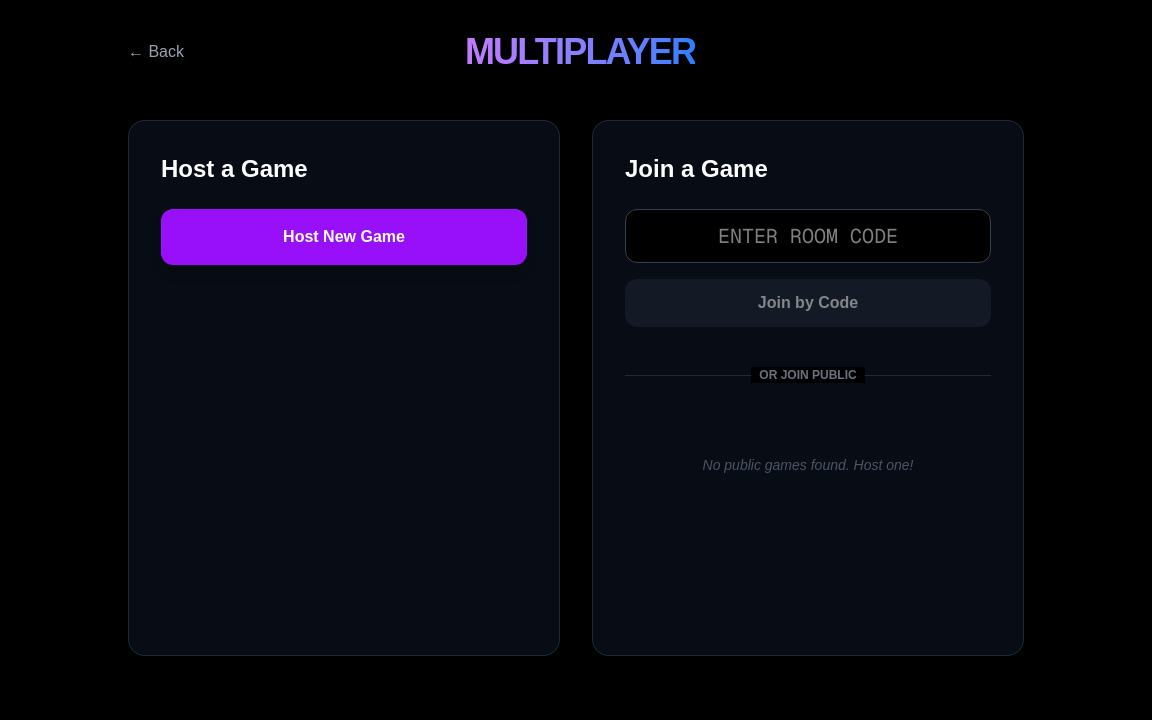
Test: Multiplayer Selection Page › generates a room code when clicking Host New Game
The width and height of the screenshot is (1152, 720).
Click the button "Host New Game" at (344, 237), box top-left (161, 209), bottom-right (527, 265)
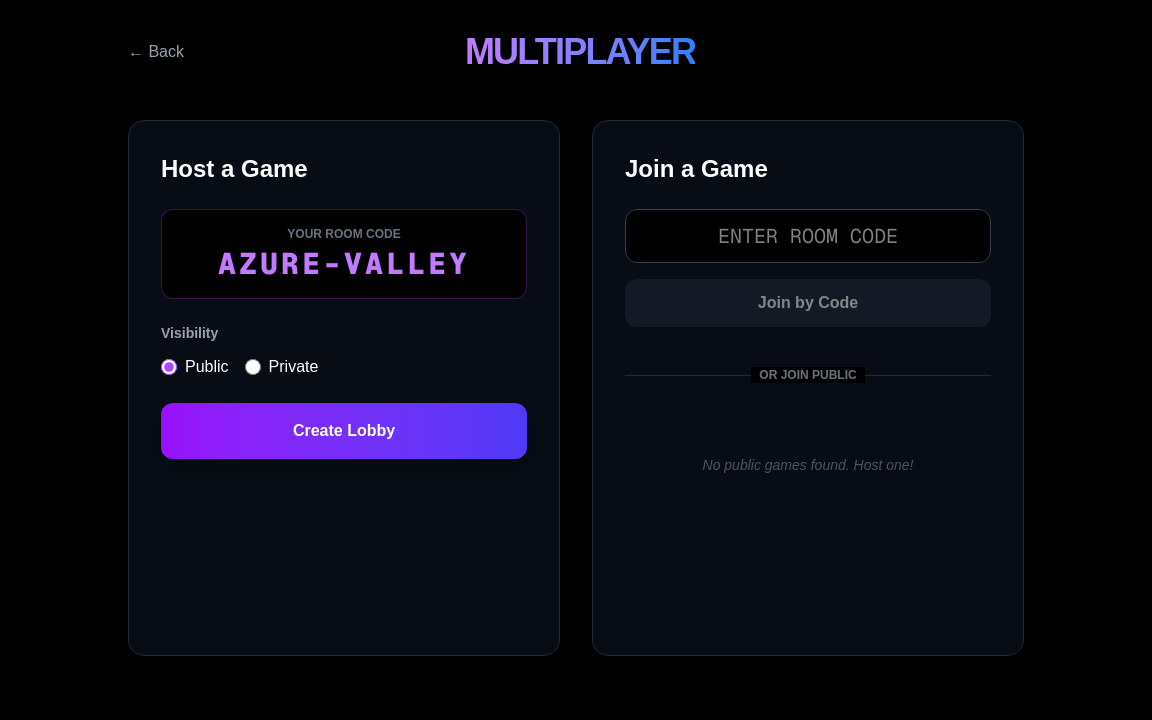
Check: the text with test id "room-code-display" reads "AZURE-VALLEY", box top-left (218, 244), bottom-right (470, 283)
